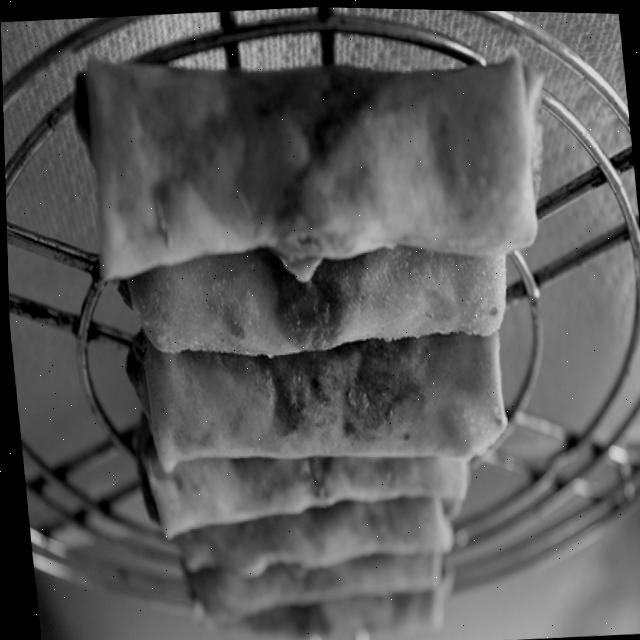炸货点心: (35, 12, 604, 640)
